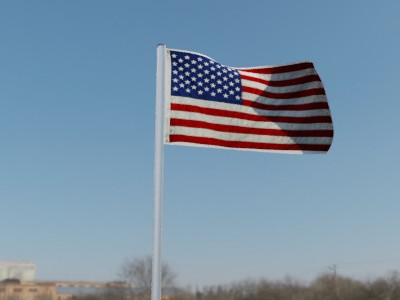America flag: (165, 47, 335, 155)
